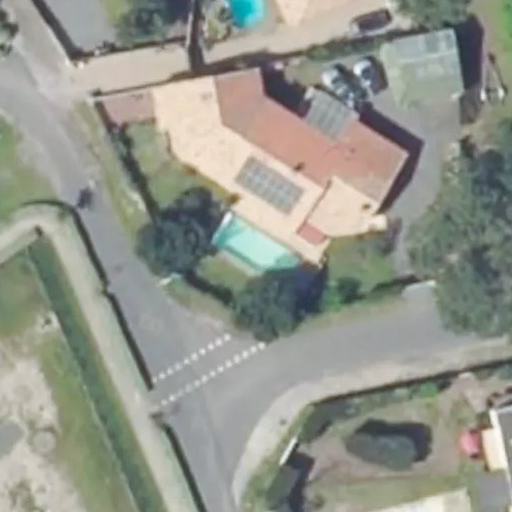pool: (212, 213, 295, 281)
